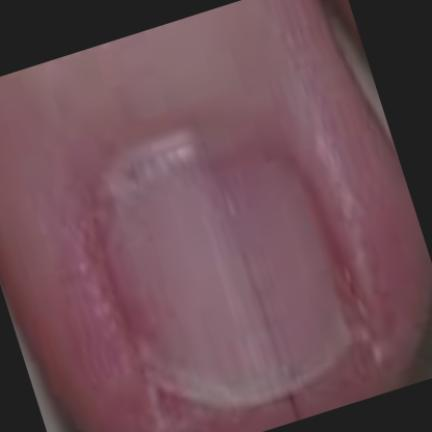Nail: (100, 142, 354, 408)
